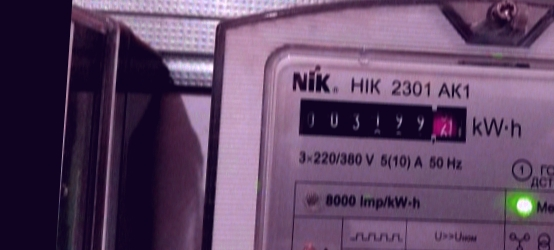0: (326, 107, 338, 127), (303, 107, 313, 125)
1: (370, 107, 380, 126)
3: (348, 109, 359, 129)
6: (436, 119, 447, 134)
9: (391, 107, 402, 128), (413, 111, 424, 129)
screen: (288, 85, 473, 151)
